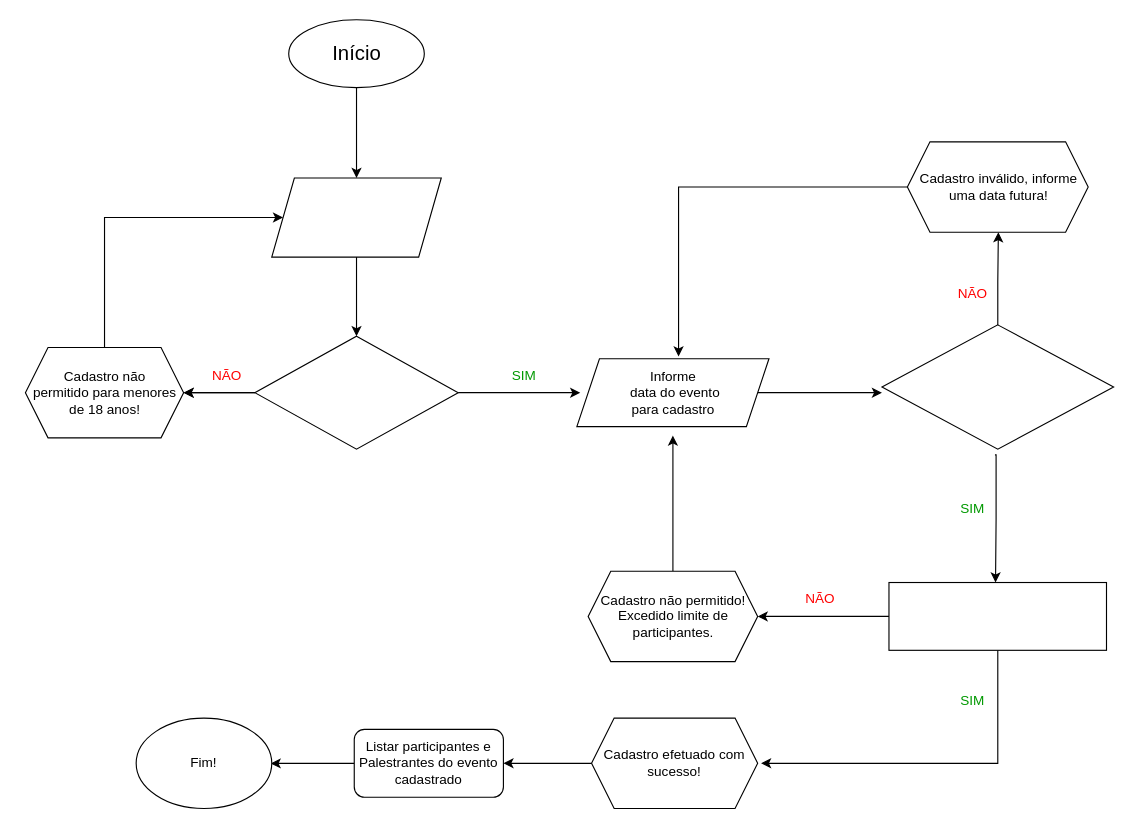
Some shapes in this 1133 by 828 pixel diagram are drawn without their labels. Each missing label, with the centre of its shape:
"Ano atual - Data informada ≥ 18 anos?" belongs at pixel 356 392.
"Data informada ≥ data atual?" belongs at pixel 997 386.
"Evento data informada - participantes cadastrados < 100?" belongs at pixel 997 615.
"Informe ano de nascimento" belongs at pixel 356 217.
